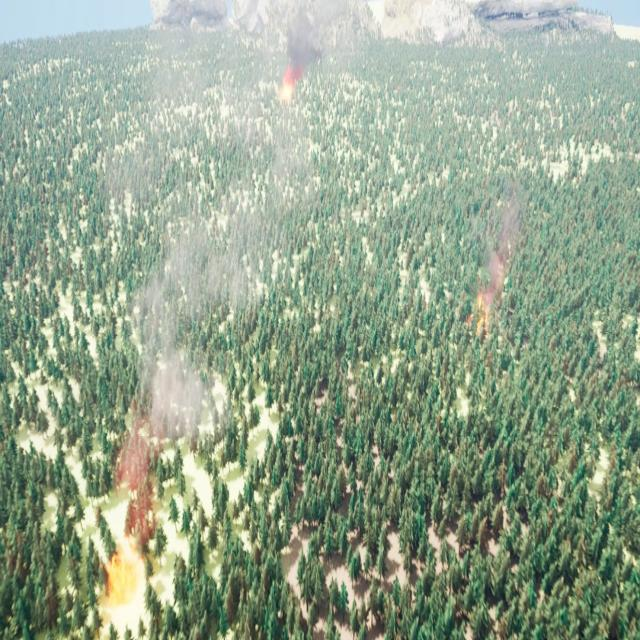fire: (105, 549, 137, 602), (469, 293, 489, 333), (278, 72, 298, 100)
smoke: (110, 0, 357, 526), (483, 187, 524, 293), (286, 3, 326, 77)
